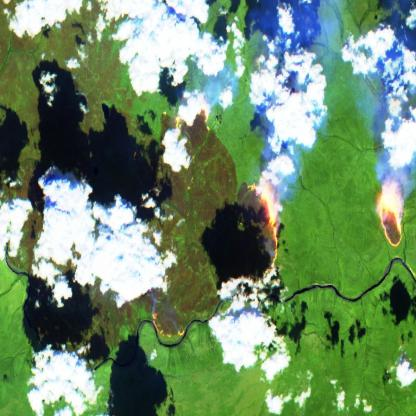fire: (244, 168, 286, 280), (158, 100, 220, 148), (372, 175, 411, 250), (149, 308, 193, 344)
